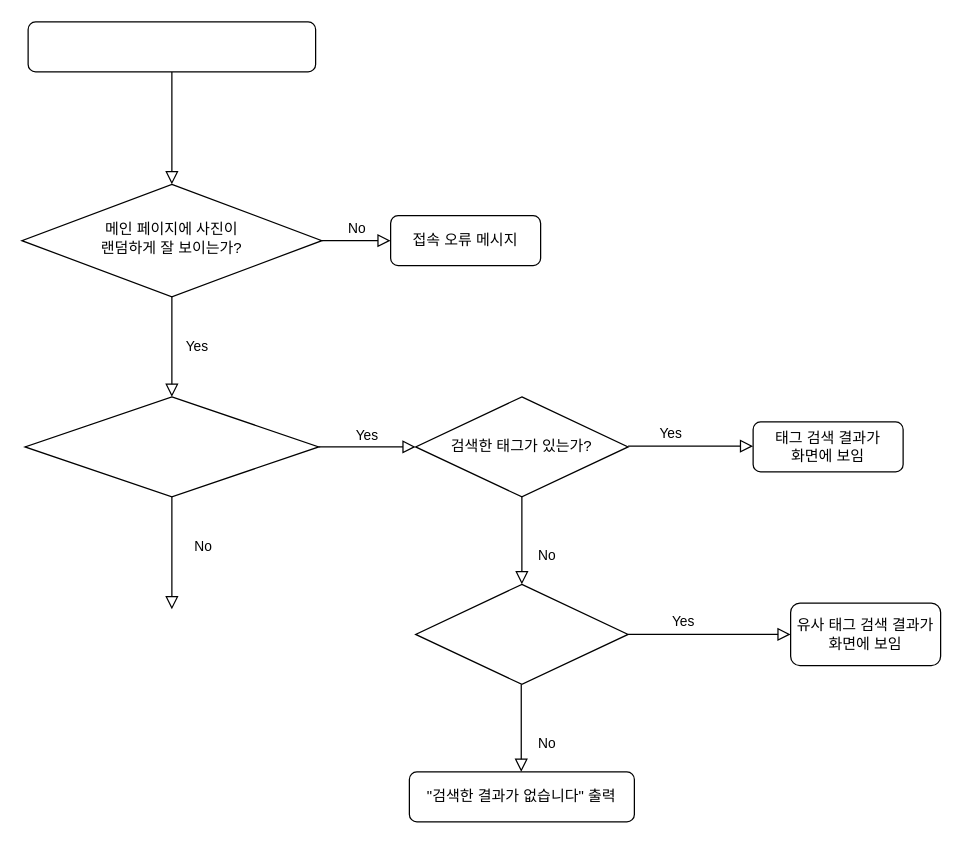
Some shapes in this 963 by 844 pixel diagram are drawn without their labels. The shapes that lost their labels are listed below. From the top down, each one's centre as x and y in pixels, then its label:
point 171,46: Stargram 시작
point 171,446: 사진을 검색하고 싶은가?
point 521,633: 유사한 태그가 있는가?
